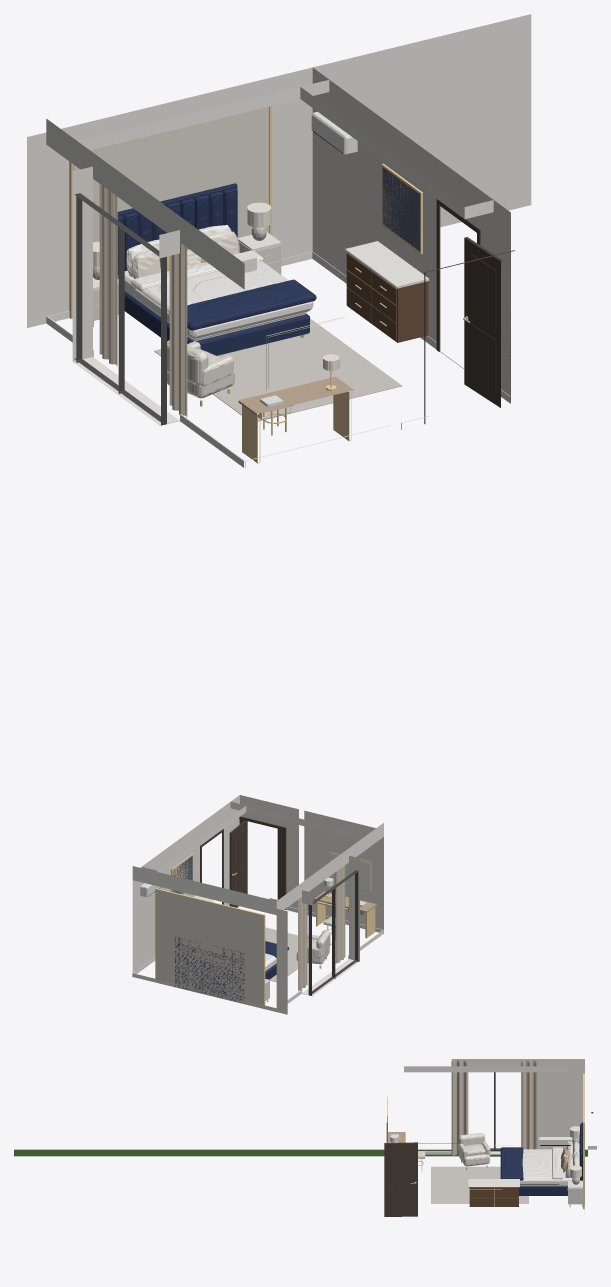
Rendered from MASTER.glb.
The picture shows the model from 3 angles, top to bottom: view 1: azimuth 30°, elevation 25°; view 2: azimuth 150°, elevation 25°; view 3: azimuth 270°, elevation 25°; orthographic projection. The views are drawn at different scales.
Parts seen in each view (by area): view 1: WEB_MASTER; view 2: WEB_MASTER; view 3: WEB_MASTER.
Part boxes in pixels (<box>): WEB_MASTER: <box>27,14,531,467</box>; WEB_MASTER: <box>132,795,383,1014</box>; WEB_MASTER: <box>14,1059,596,1216</box>.
Size of the model in its own units: 7.74 by 3.2 by 15.47.
